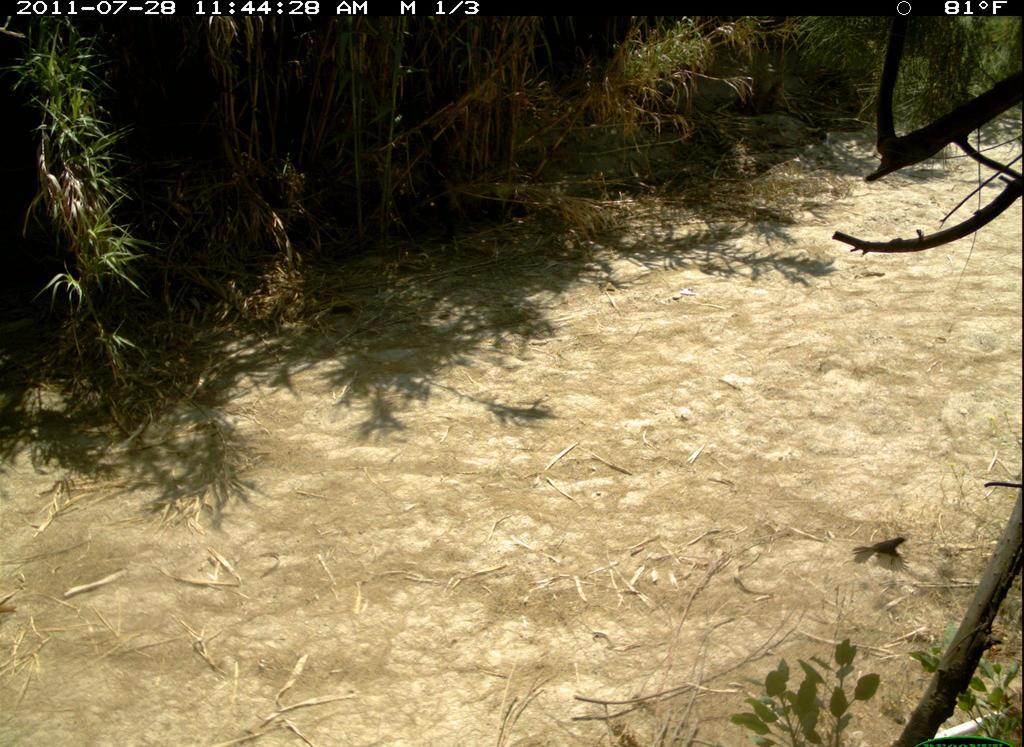bird: (848, 529, 917, 573)
